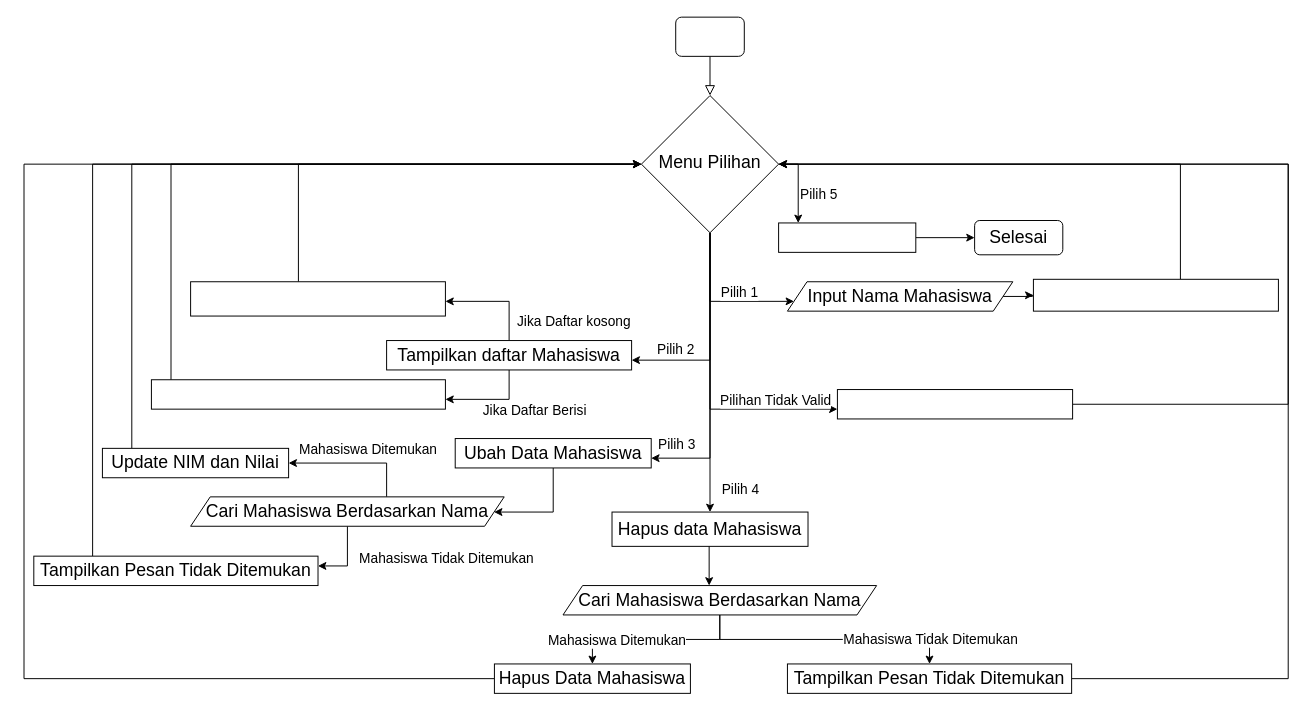
The diagram is 1313 pixels wide and 711 high, and some of its shapes have lost their labels. Here are the shapes that lost their labels. From the top down, the box of each, then its label:
(675, 16, 744, 56): Mulai
(778, 222, 916, 252): Keluar Program
(190, 281, 445, 316): Tampilkan pesan Daftar Kosong
(1032, 278, 1278, 311): Tambah Mahasiswa ke Daftar
(150, 379, 445, 409): Tampilkan Seluruh Data Mahasiswa
(836, 389, 1073, 419): Tampilkan pesan Kesalahan
